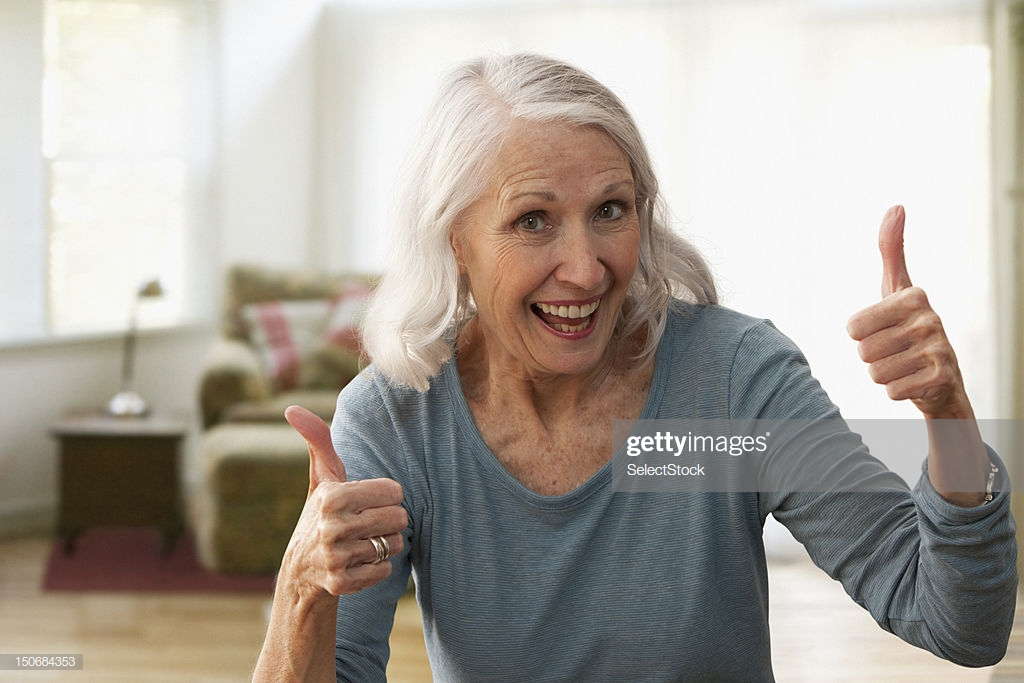thumbsup: (283, 404, 409, 597), (845, 203, 952, 401)
